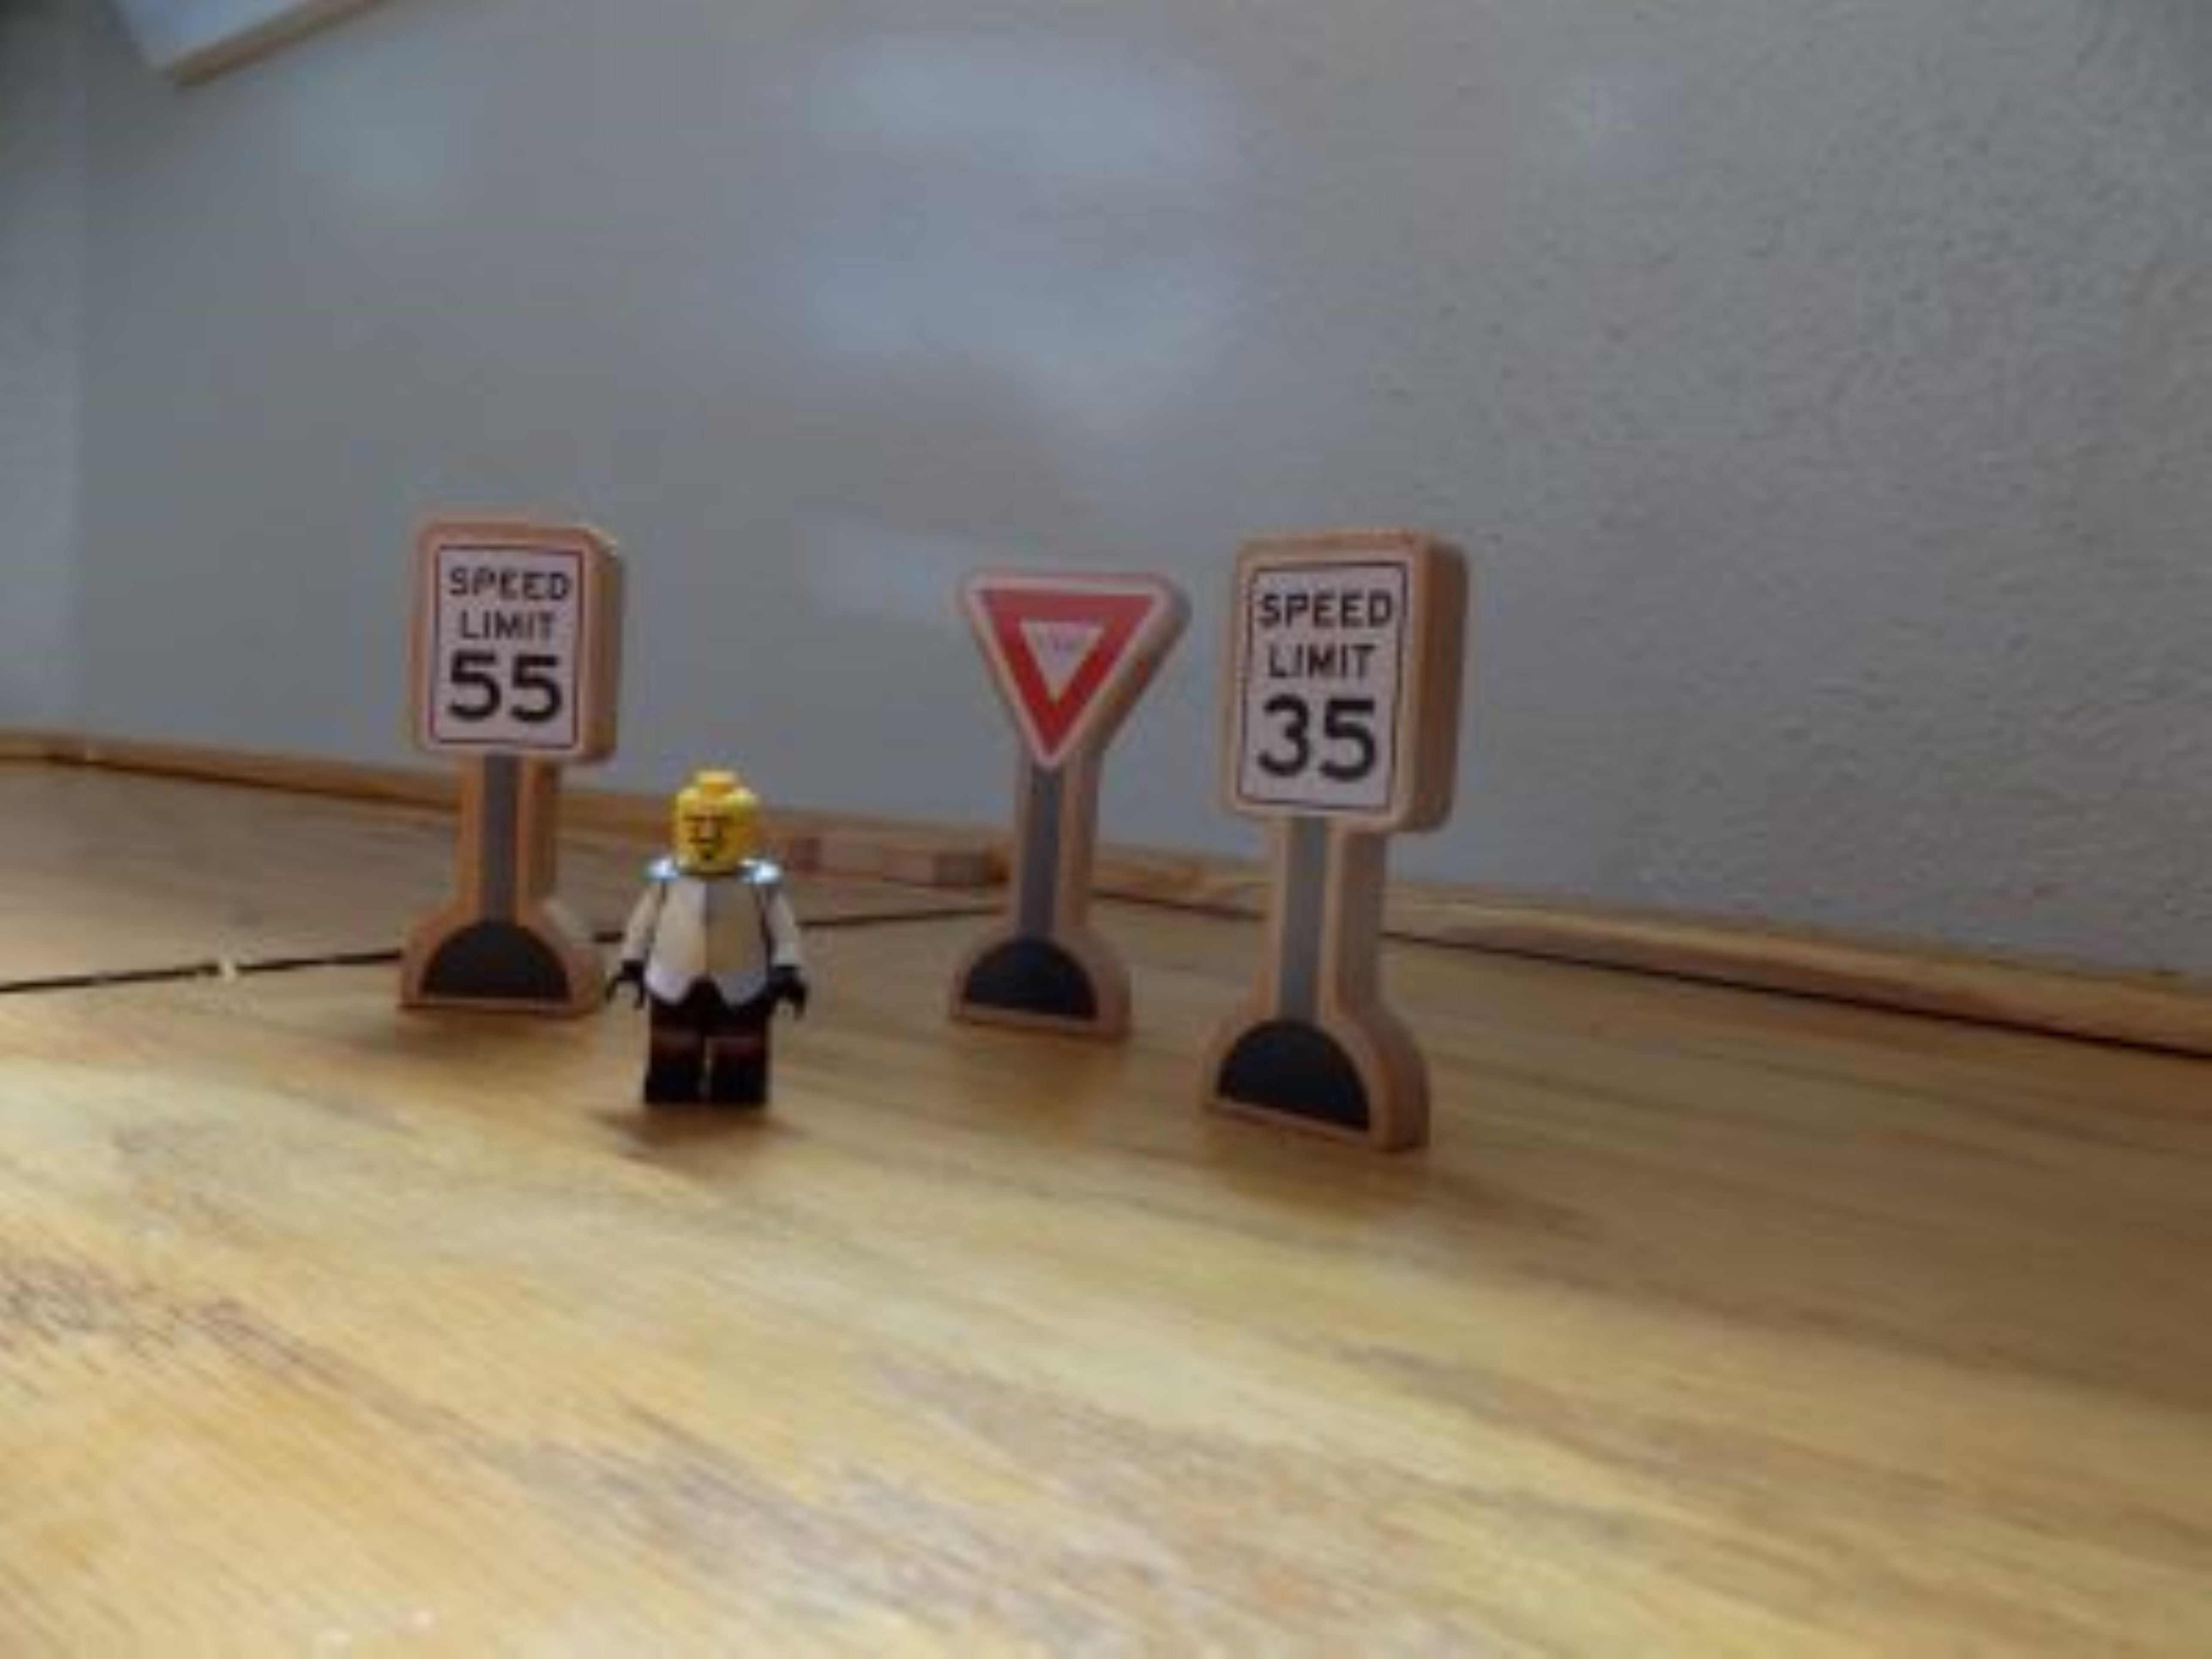Person: (626, 775, 805, 1103)
Speed Limit 35: (1222, 538, 1473, 821)
Speed Limit 55: (403, 513, 619, 764)
Yield Sign: (957, 556, 1201, 802)
